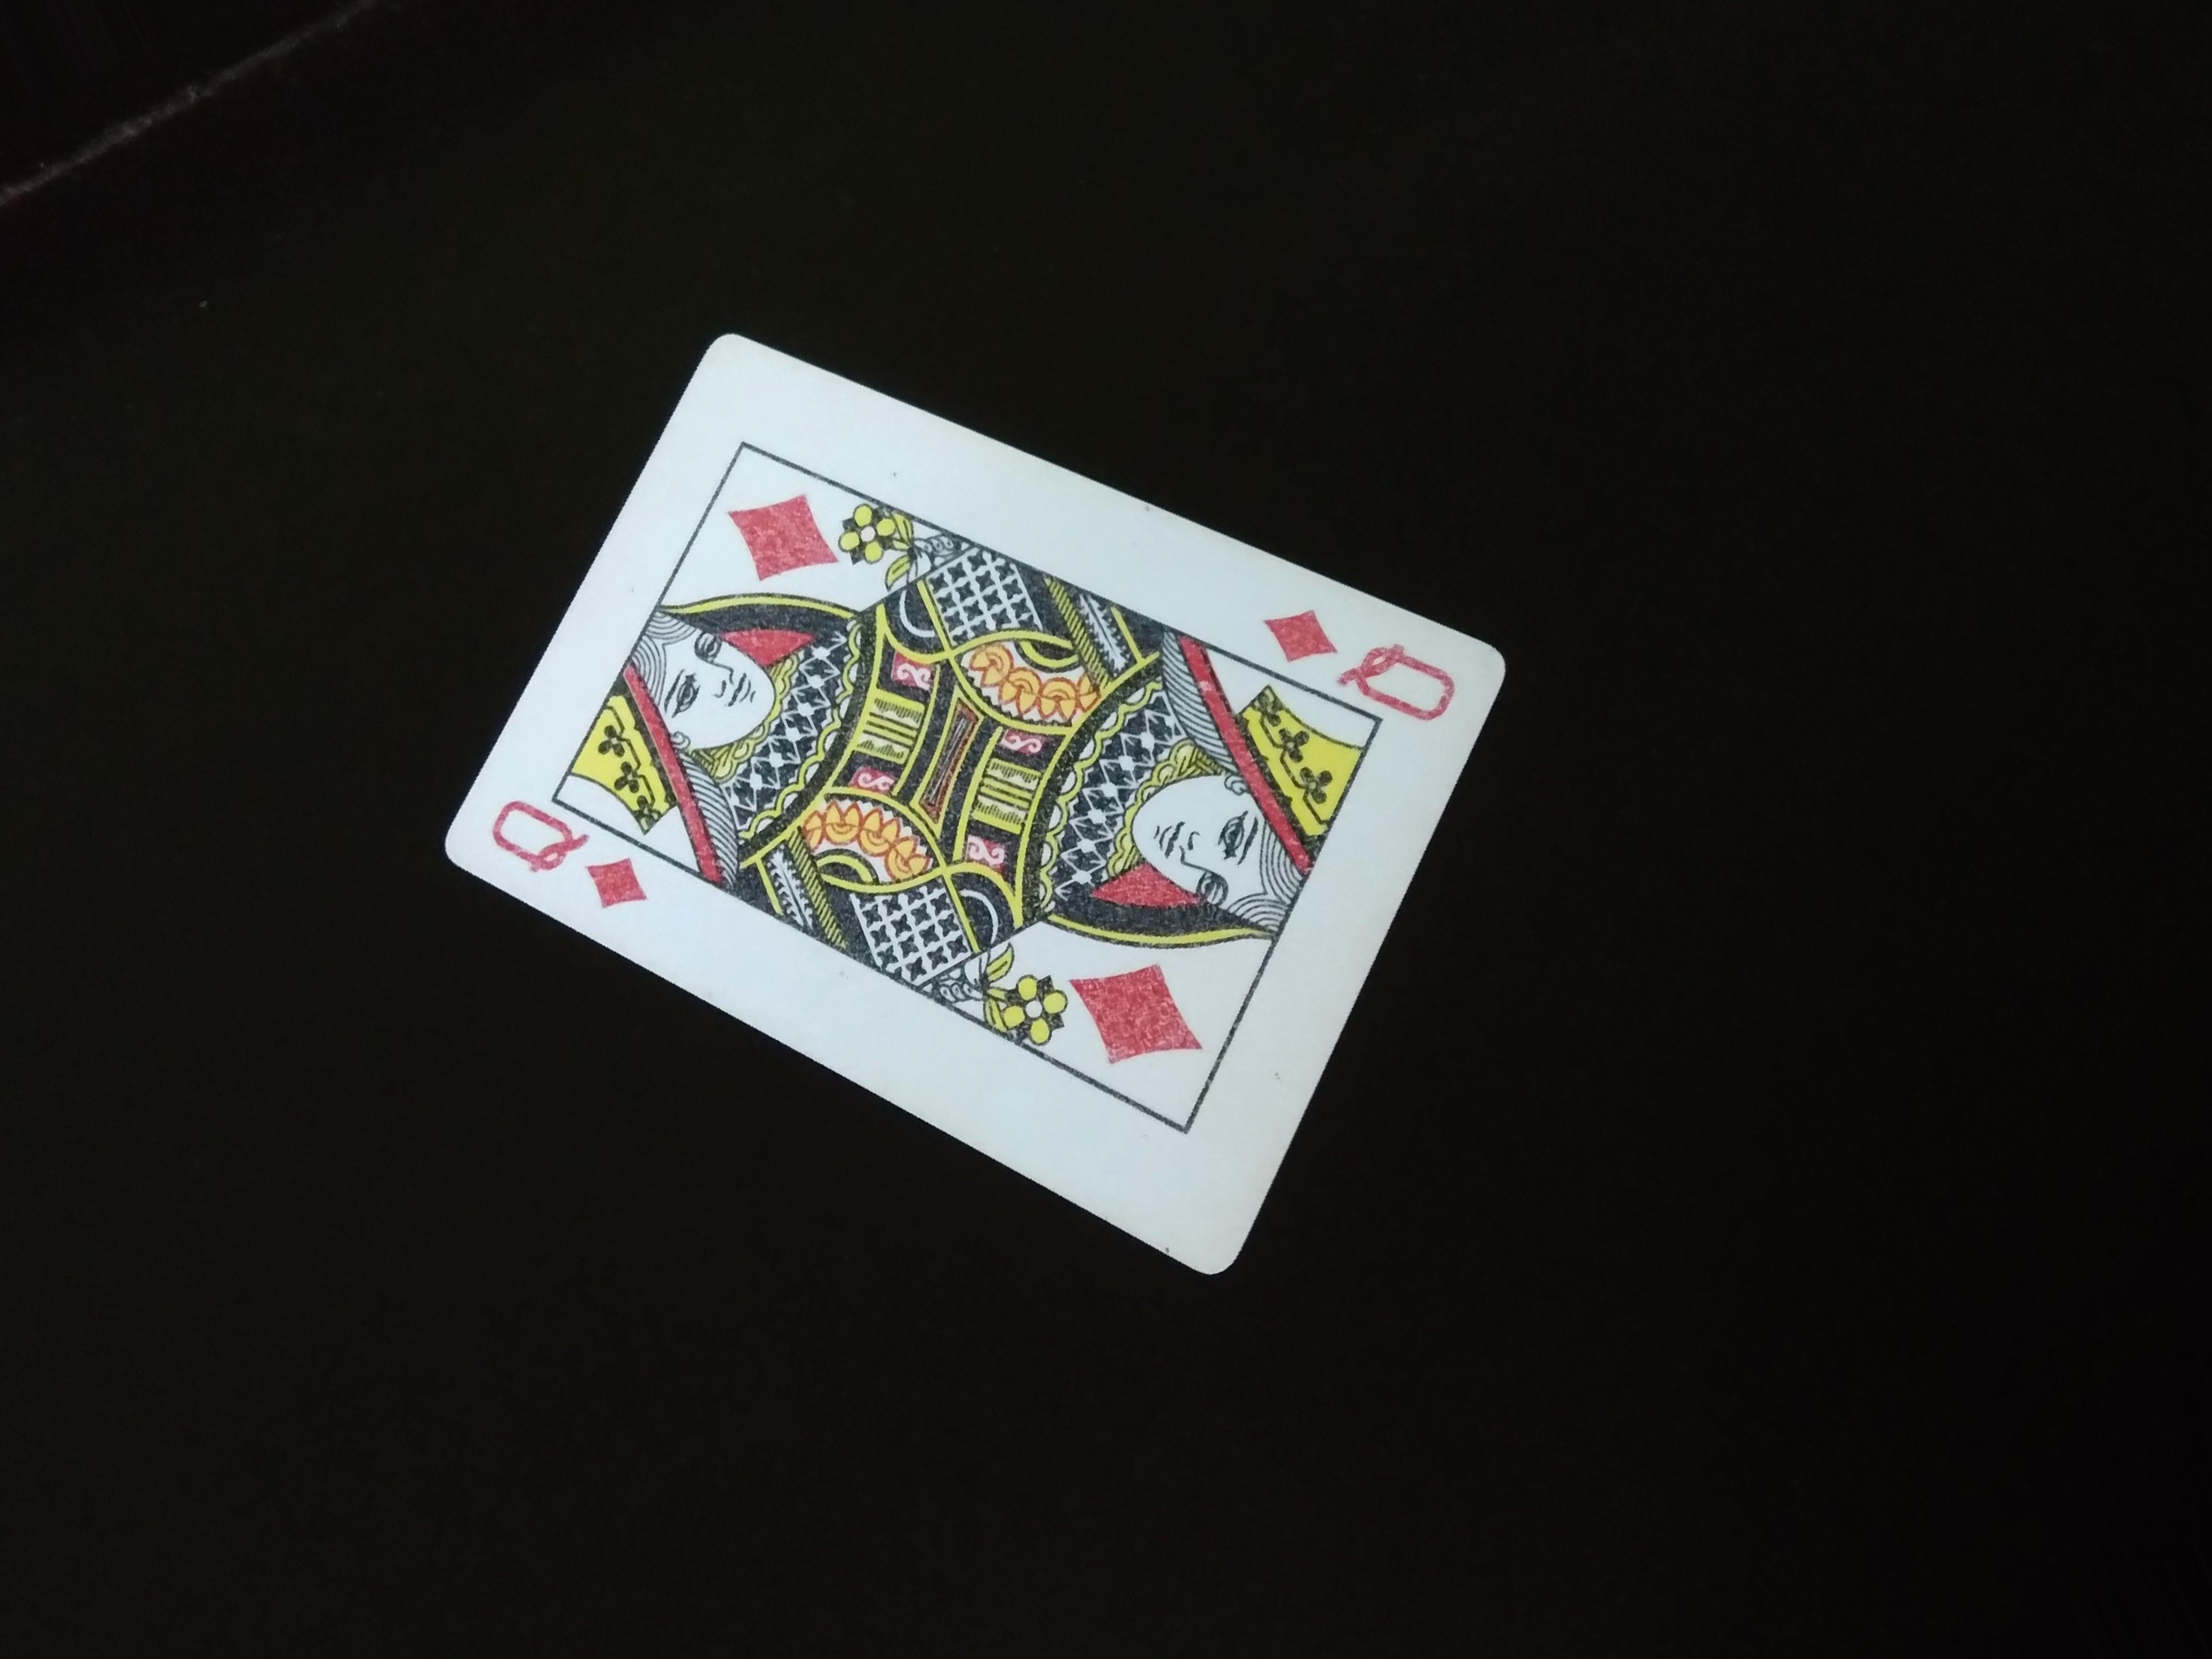QD: (472, 800, 667, 924)
